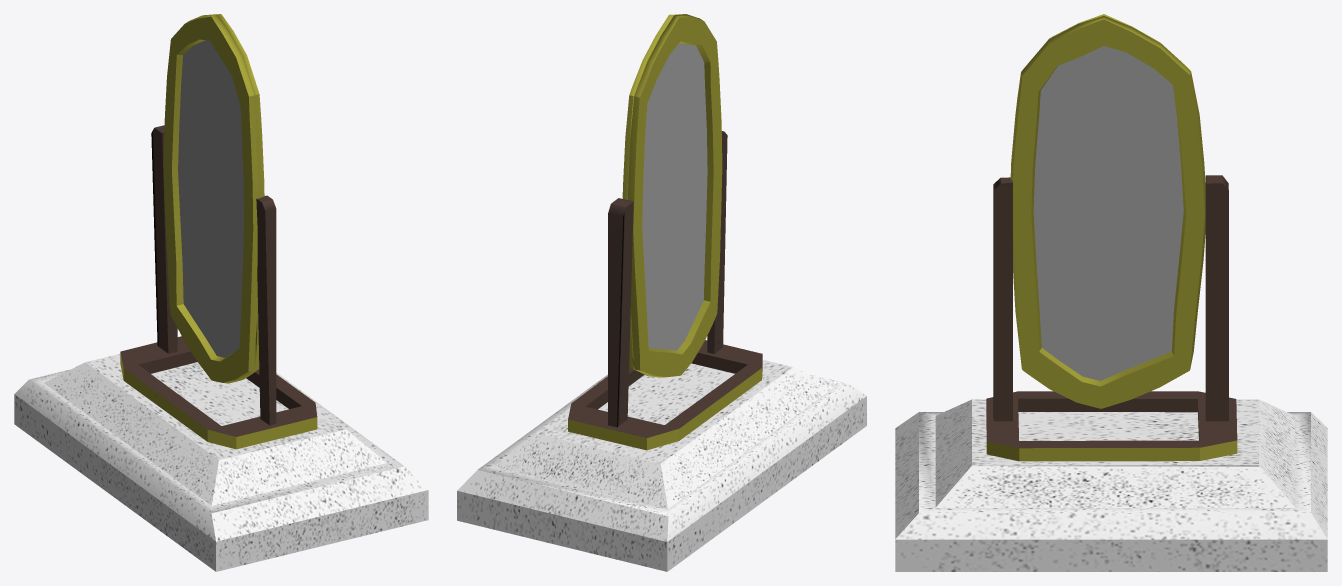
Rendered from Filter 02 Textured.fbx.
3 views of the same model, side by side, from view 1: azimuth 30°, elevation 25°; view 2: azimuth 150°, elevation 25°; view 3: azimuth 270°, elevation 25° (orthographic). The views are drawn at different scales.
Parts seen in each view (by area): view 1: Light_Filter, Glass; view 2: Light_Filter, Glass; view 3: Light_Filter, Glass.
Boxes of the visible parts, x1=… form: Light_Filter: x1=14, y1=14, x2=428, y2=571; Glass: x1=178, y1=40, x2=243, y2=357; Light_Filter: x1=457, y1=14, x2=866, y2=571; Glass: x1=642, y1=43, x2=707, y2=350; Light_Filter: x1=895, y1=14, x2=1327, y2=571; Glass: x1=1033, y1=46, x2=1183, y2=380.
Size of the model in its own units: 1.78 by 3.7 by 2.93.
